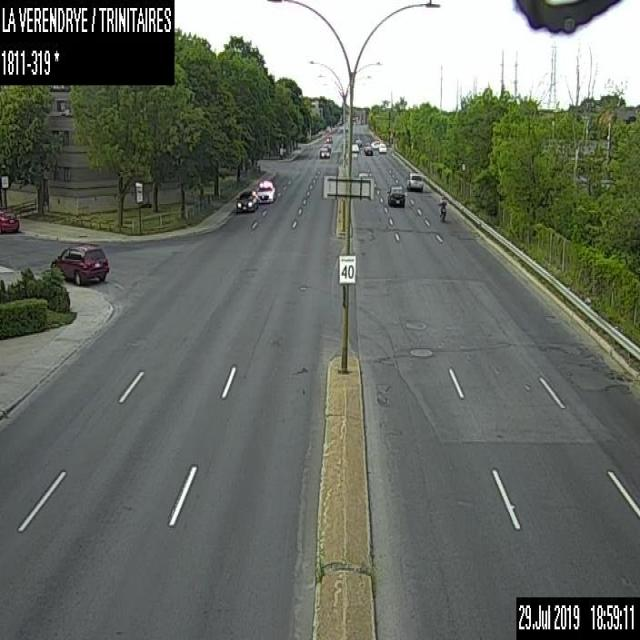vehicle: (51, 241, 109, 284), (235, 189, 258, 213), (255, 179, 274, 202), (386, 184, 404, 207), (0, 209, 18, 232), (406, 170, 422, 190), (437, 196, 447, 221), (321, 142, 331, 152), (319, 146, 328, 156), (363, 144, 371, 154), (378, 142, 386, 152), (370, 140, 380, 147), (351, 143, 358, 152), (354, 137, 361, 145), (326, 134, 332, 143)
